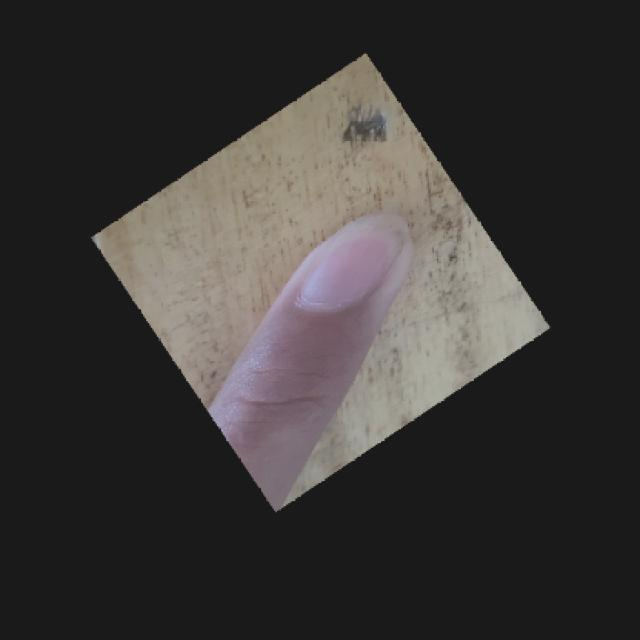Nail: (304, 212, 407, 304)
